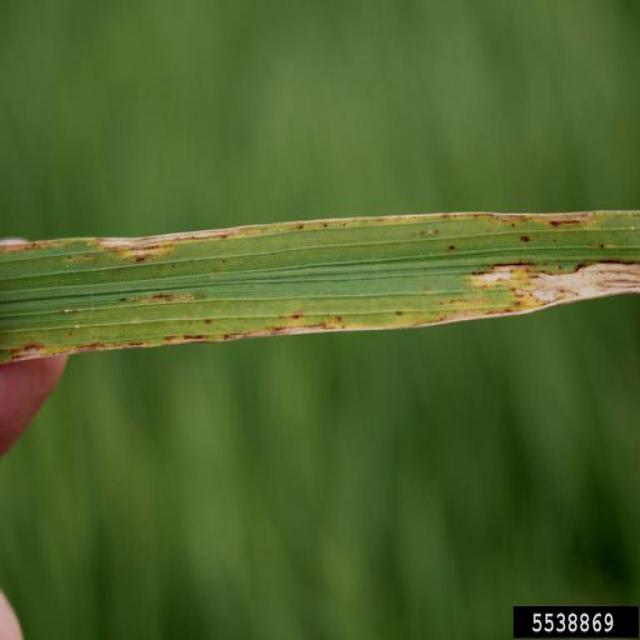Bacterial_Leaf_Blight: (0, 200, 631, 318)
